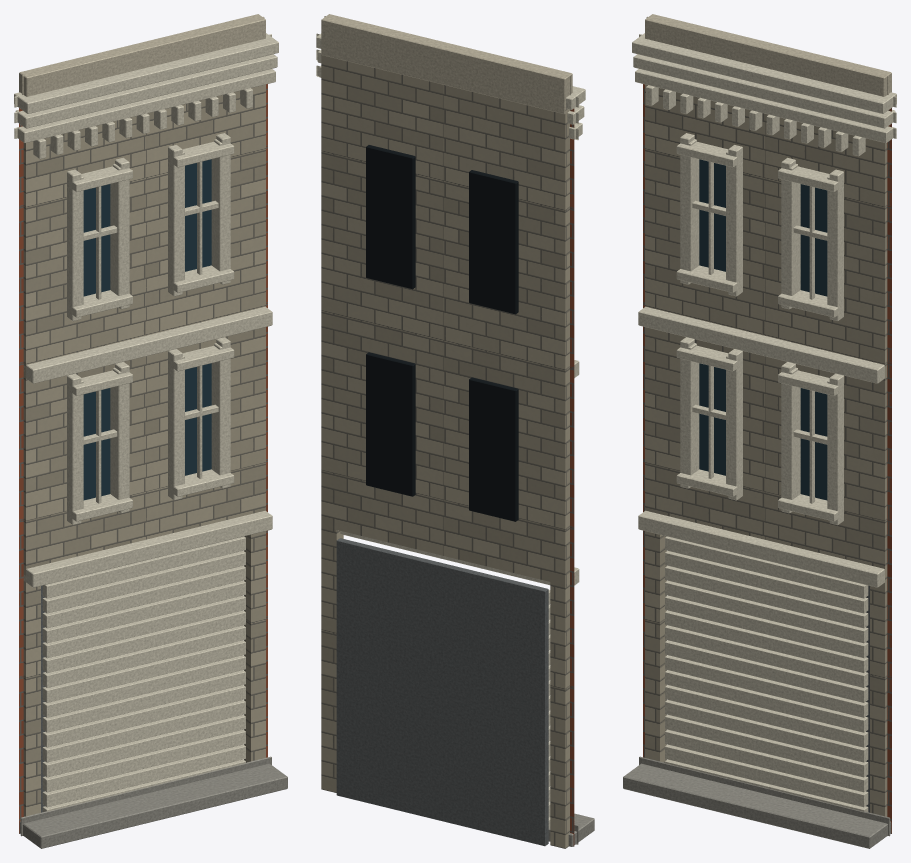
The model's file is WHSE20_lod1.glb.
3 views of the same model, side by side, from view 1: azimuth 30°, elevation 25°; view 2: azimuth 150°, elevation 25°; view 3: azimuth 330°, elevation 25° (orthographic).
Parts seen in each view (by area): view 1: WHSE20_FRONT_LOD1; view 2: WHSE20_FRONT_LOD1; view 3: WHSE20_FRONT_LOD1.
Boxes of the visible parts, x1=… form: WHSE20_FRONT_LOD1: x1=14, y1=14, x2=287, y2=848; WHSE20_FRONT_LOD1: x1=316, y1=14, x2=594, y2=848; WHSE20_FRONT_LOD1: x1=623, y1=14, x2=896, y2=848.
Bounding box in the file's own units: 3.44 × 9.66 × 0.65.
Materials: 8 (6 with a texture image).
